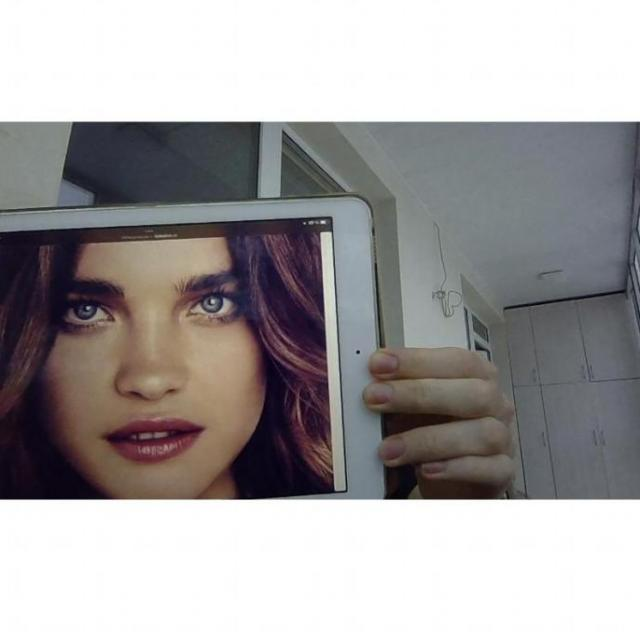device: (0, 189, 388, 499)
